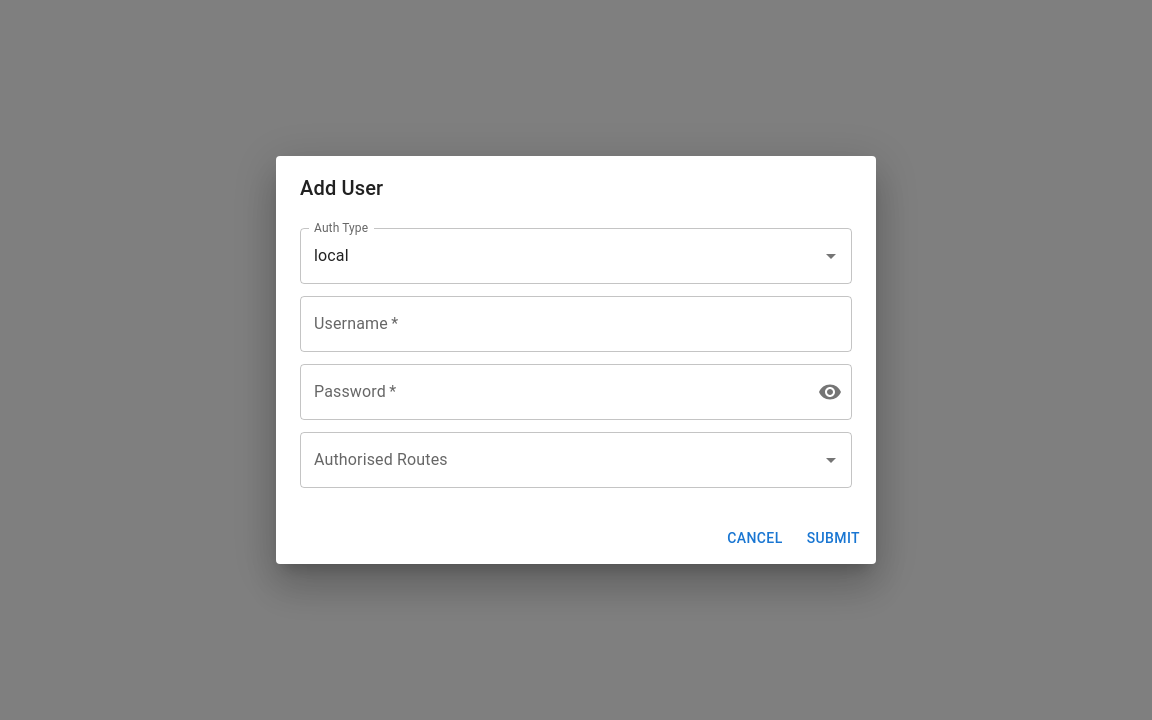
Scenario: userDialogue › add dialog › should show and hide password when clicking the visibility toggle
Step 1. Type "testuser" into the field labelled "Username *" → coordinates (576, 324), box [300,296,852,352]
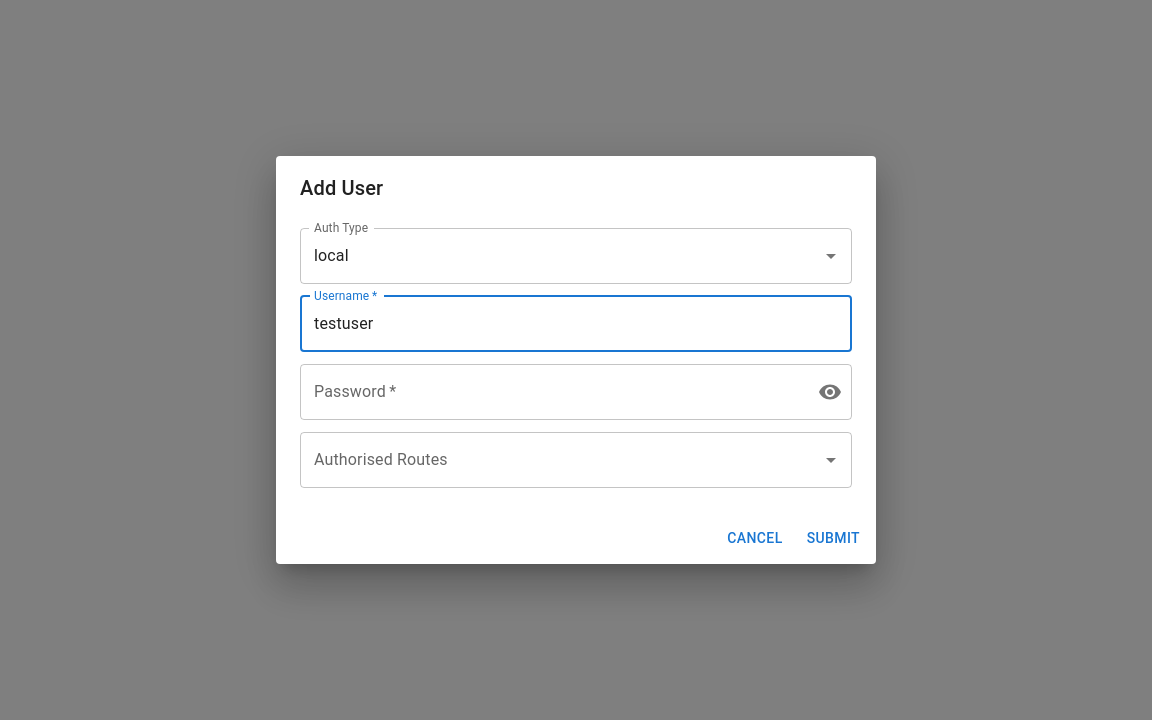
Step 2. Type "secure_password" into the field labelled "Password *" → coordinates (555, 392), box [300,364,810,420]
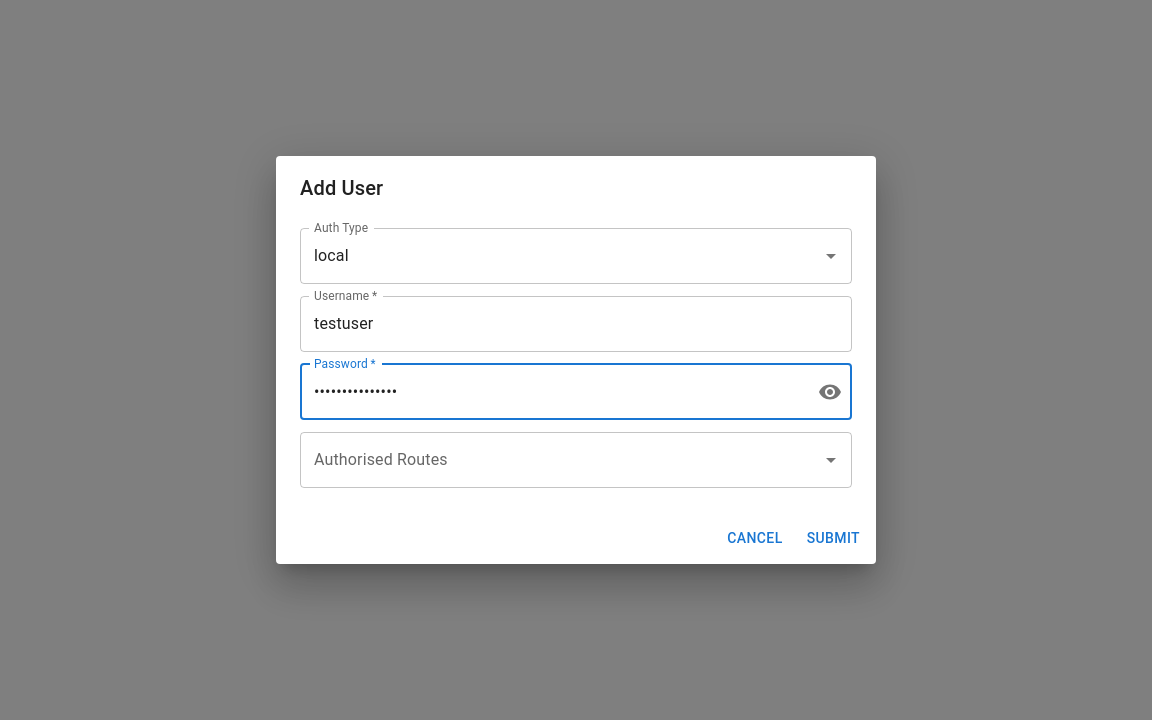
Expected: the password field labelled "Password *" hides its text, [300,364,810,420]
Step 3. Click the button named "Show password" → coordinates (830, 392), box [810,372,850,412]
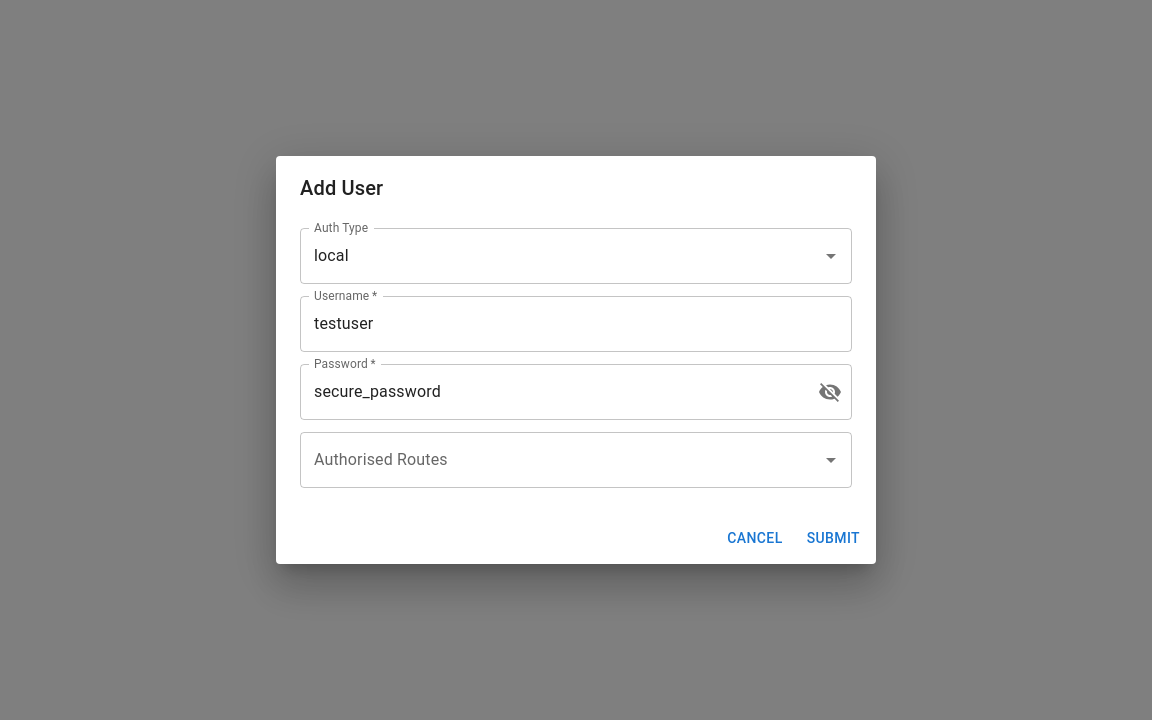
Expected: the field labelled "Password *" shows its text, [300,364,810,420]
Step 4. Click the button named "Hide password" → coordinates (830, 392), box [810,372,850,412]
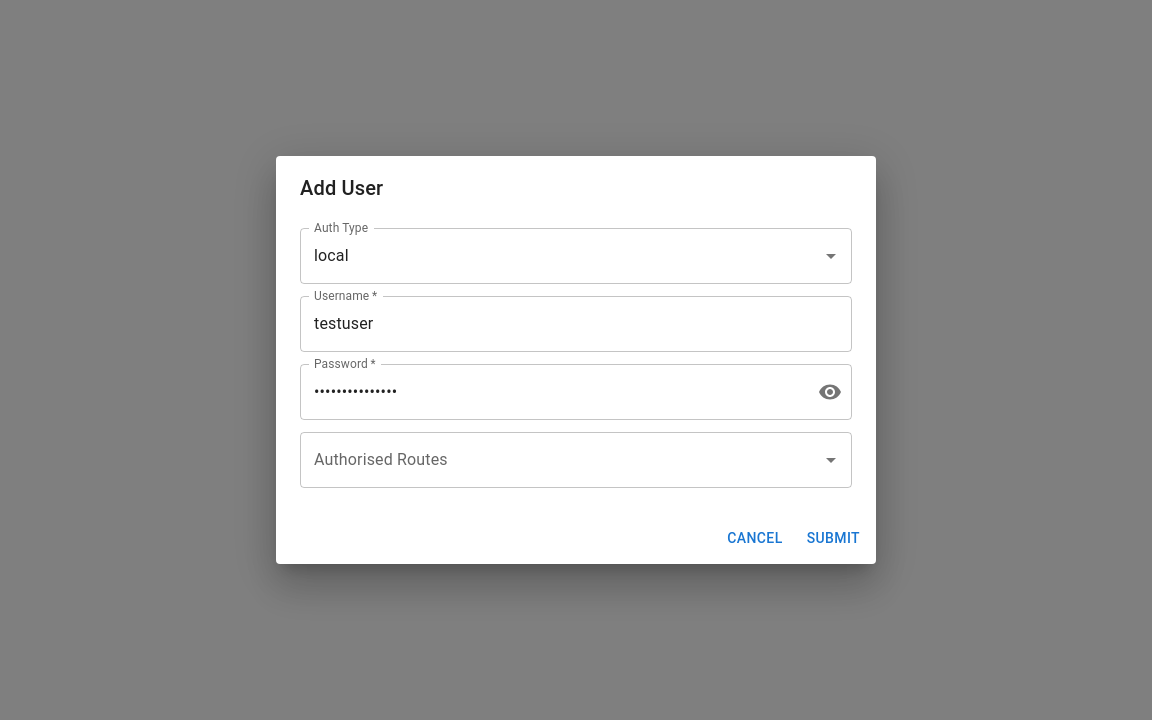
Expected: the password field labelled "Password *" hides its text, [300,364,810,420]
